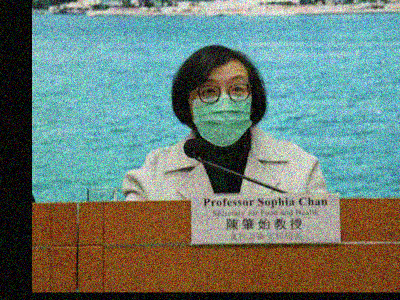with_mask: (188, 72, 254, 147)
